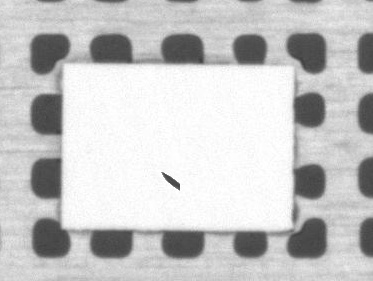DIE_INK: (211, 128, 239, 144)
